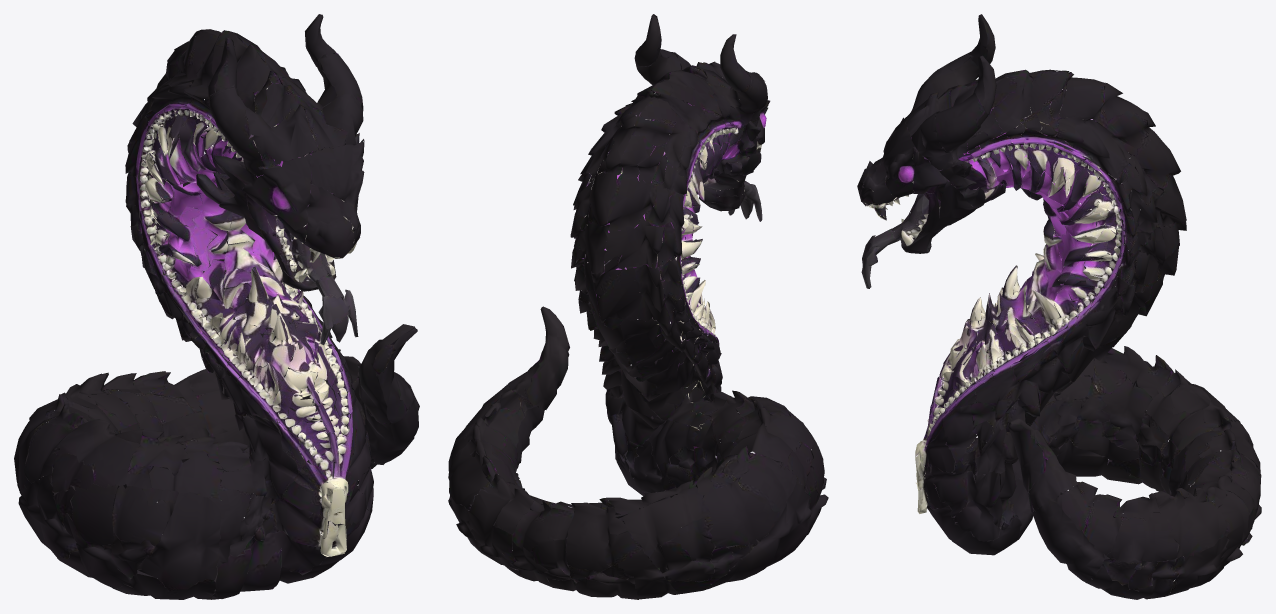
3 views of the same model, side by side, from view 1: azimuth 30°, elevation 25°; view 2: azimuth 150°, elevation 25°; view 3: azimuth 270°, elevation 25° (orthographic). The views are drawn at different scales.
Visible parts, largest first — view 1: Mesh_0; view 2: Mesh_0; view 3: Mesh_0.
Boxes of the visible parts, x1,y1,x2,y2 form: Mesh_0: (14,14,419,599); Mesh_0: (448,14,828,599); Mesh_0: (857,14,1261,599).
Bounding box in the file's own units: 1.35 × 1.9 × 1.38.
1 material, 1 textured.
